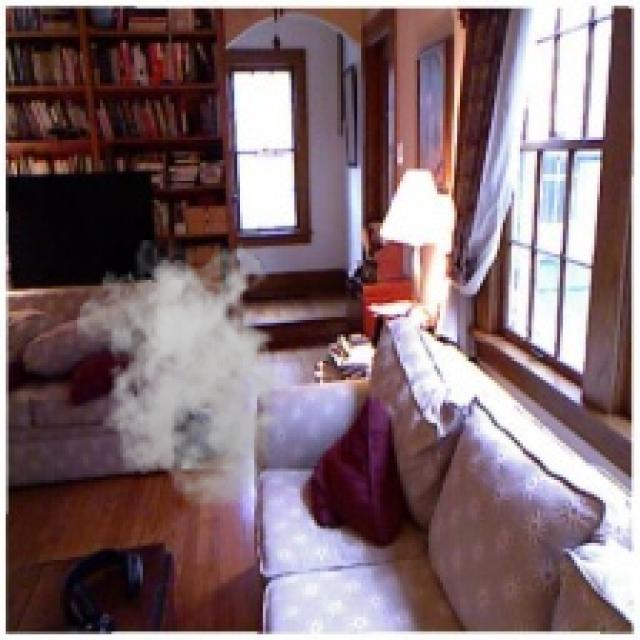Smoke: (77, 240, 306, 509)
